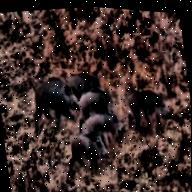boar: (23, 66, 83, 138), (124, 78, 184, 141), (69, 120, 116, 190), (83, 98, 135, 161), (72, 84, 118, 126)
